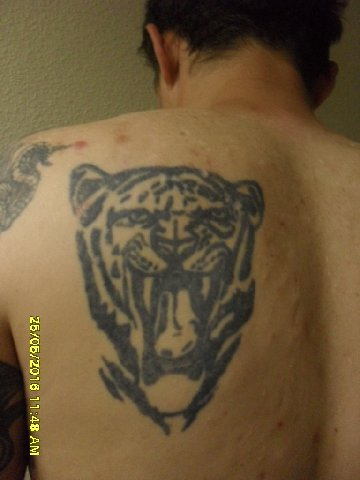tatu5_tigr: (67, 157, 278, 434)
